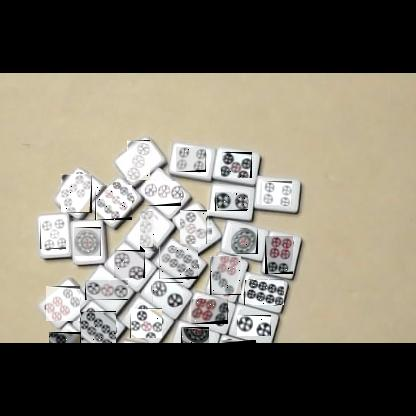1p: (74, 227, 101, 256), (231, 228, 258, 254), (181, 327, 209, 343)
2p: (114, 250, 145, 278), (237, 315, 271, 336), (152, 282, 183, 305), (215, 192, 248, 211)
3p: (127, 140, 150, 180), (145, 181, 181, 206), (85, 280, 128, 300), (141, 212, 158, 253)
4p: (176, 147, 206, 172), (262, 181, 292, 205)
5p: (181, 210, 212, 244), (130, 308, 162, 338), (221, 152, 252, 178), (40, 219, 66, 249)
6p: (46, 286, 80, 321), (265, 236, 293, 274), (191, 299, 228, 324), (49, 332, 81, 343)
7p: (61, 174, 92, 213), (210, 256, 241, 295)
8p: (159, 247, 198, 279), (80, 311, 116, 343), (244, 279, 284, 305)
9p: (95, 185, 132, 220), (220, 340, 256, 343)
